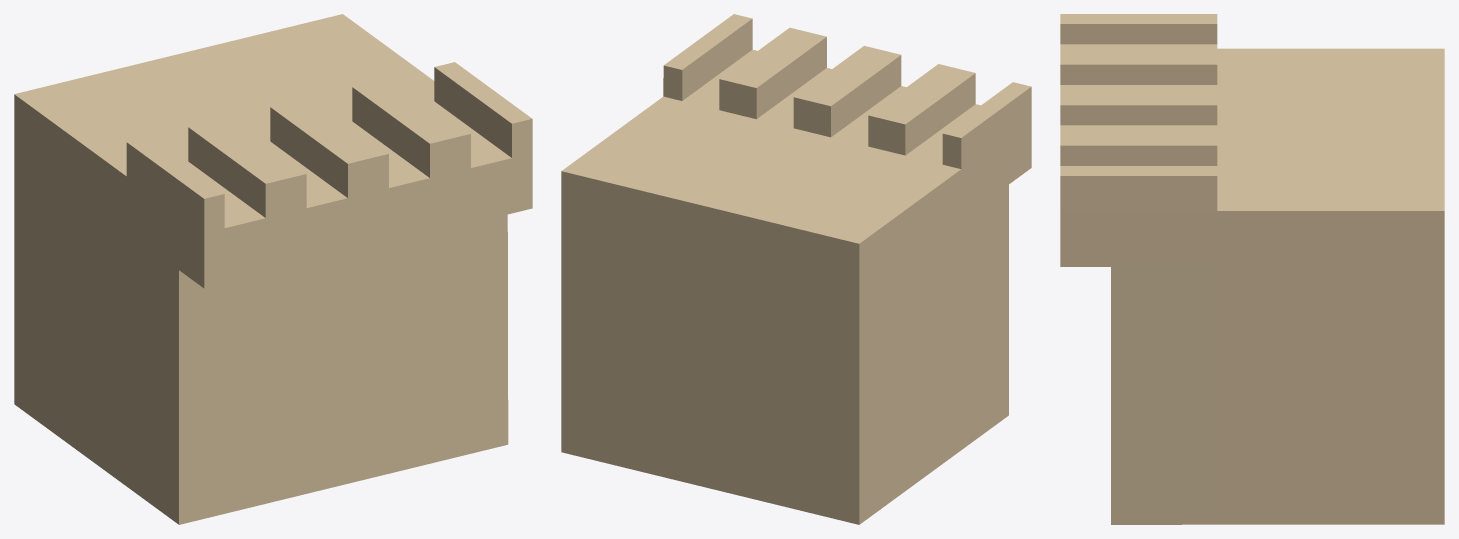
File: Wall.obj
The picture shows the model from 3 angles, left to right: view 1: azimuth 30°, elevation 25°; view 2: azimuth 150°, elevation 25°; view 3: azimuth 270°, elevation 25°; orthographic projection. The views are drawn at different scales.
Size of the model in its own units: 1 by 1 by 1.
